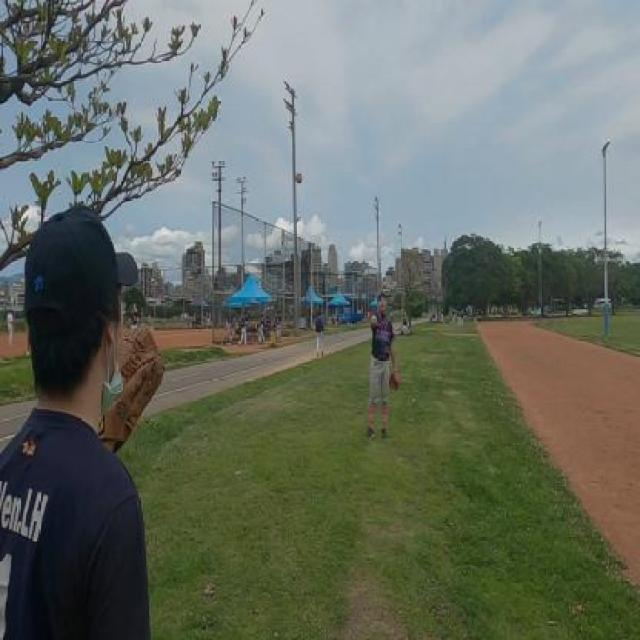baseball: (294, 170, 304, 184)
